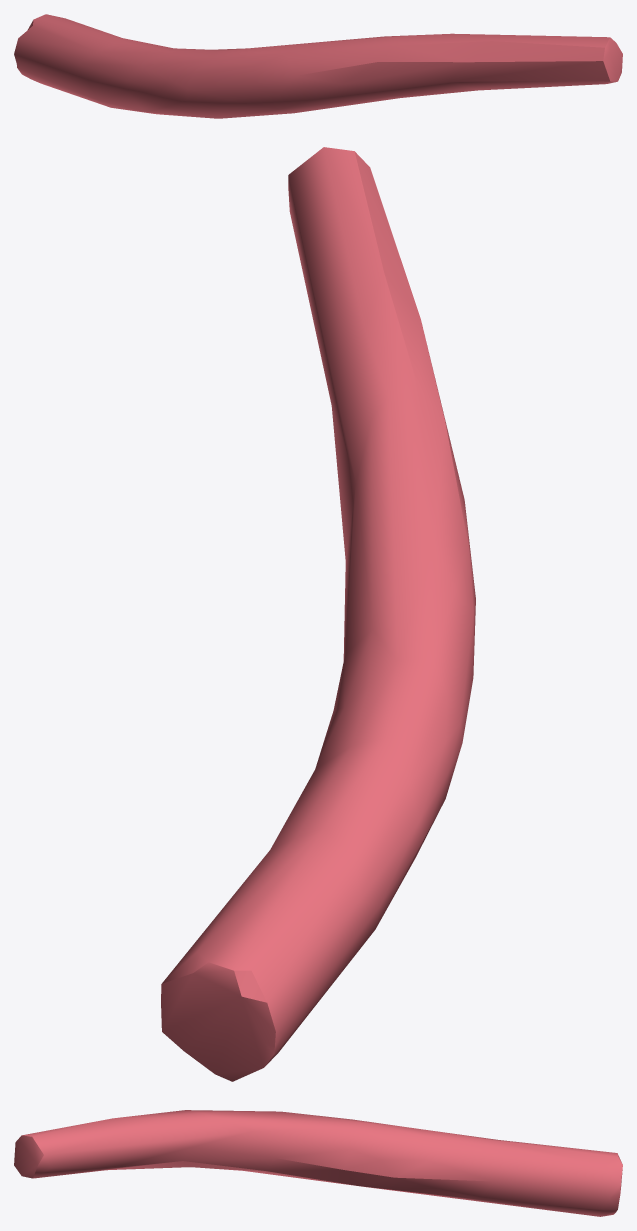
The model's file is fma13279_fj2910.glb.
3 renders of one model, top to bottom at view 1: azimuth 30°, elevation 25°; view 2: azimuth 150°, elevation 25°; view 3: azimuth 270°, elevation 25°, orthographic. The views are drawn at different scales.
Visible parts, largest first — view 1: FMA13279_FJ2910; view 2: FMA13279_FJ2910; view 3: FMA13279_FJ2910.
Boxes of the visible parts, <box> form: FMA13279_FJ2910: <box>14,14,622,118</box>; FMA13279_FJ2910: <box>161,147,475,1081</box>; FMA13279_FJ2910: <box>14,1110,622,1216</box>.
Bounding box in the file's own units: 0.0145 × 0.0096 × 0.027.
